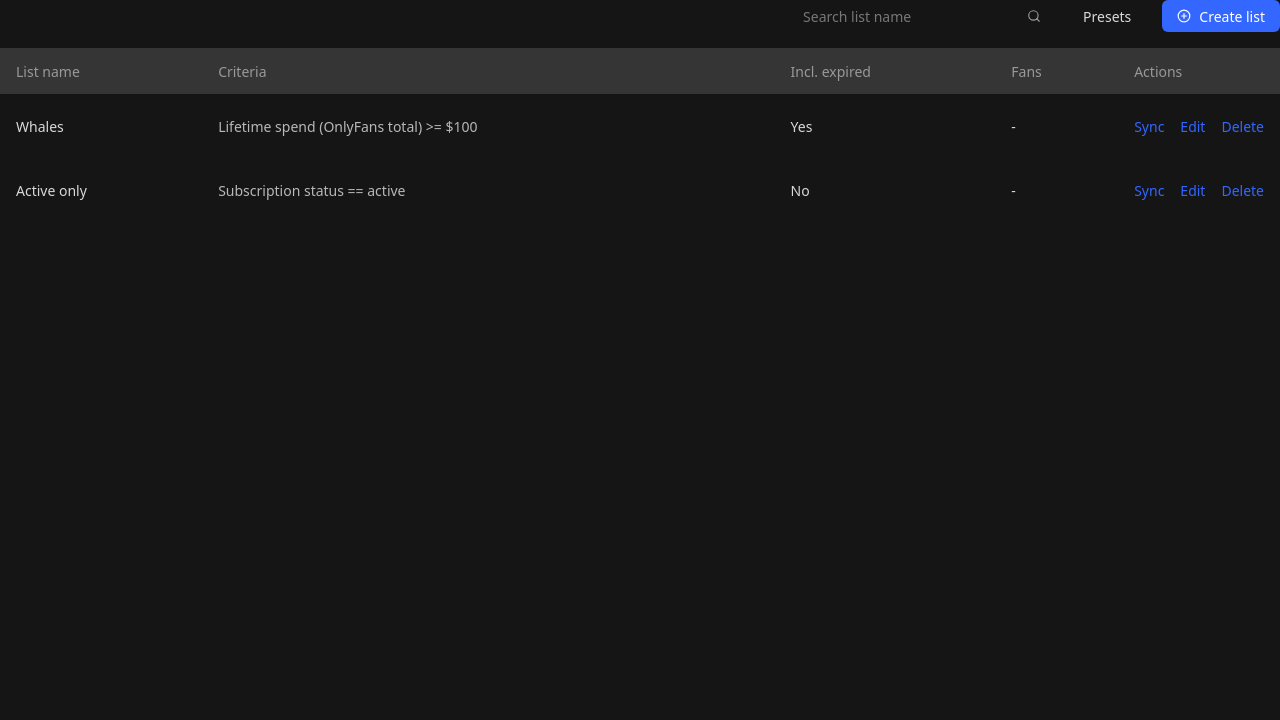
Test: SmartListsTab › Create list opens the Create smart list dialog and saves the rules
The image size is (1280, 720).
Check: the text "Whales" is shown, box [16,116,64,136]
Click the button "Create list" at (1221, 16), box [1162,0,1279,32]
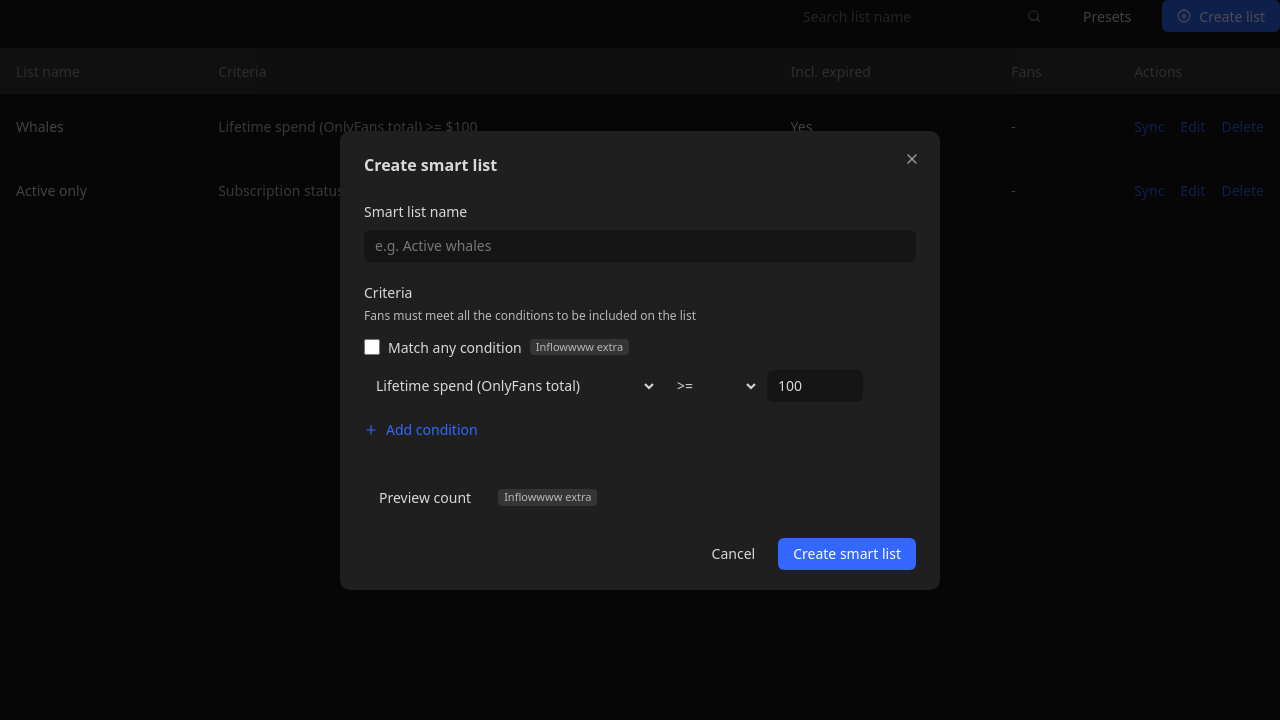
Check: the text "Fans must meet all the conditions to be included on the list" is shown, box [364,306,696,324]
Click the button "Create smart list" at (847, 554), box [778,538,916,570]
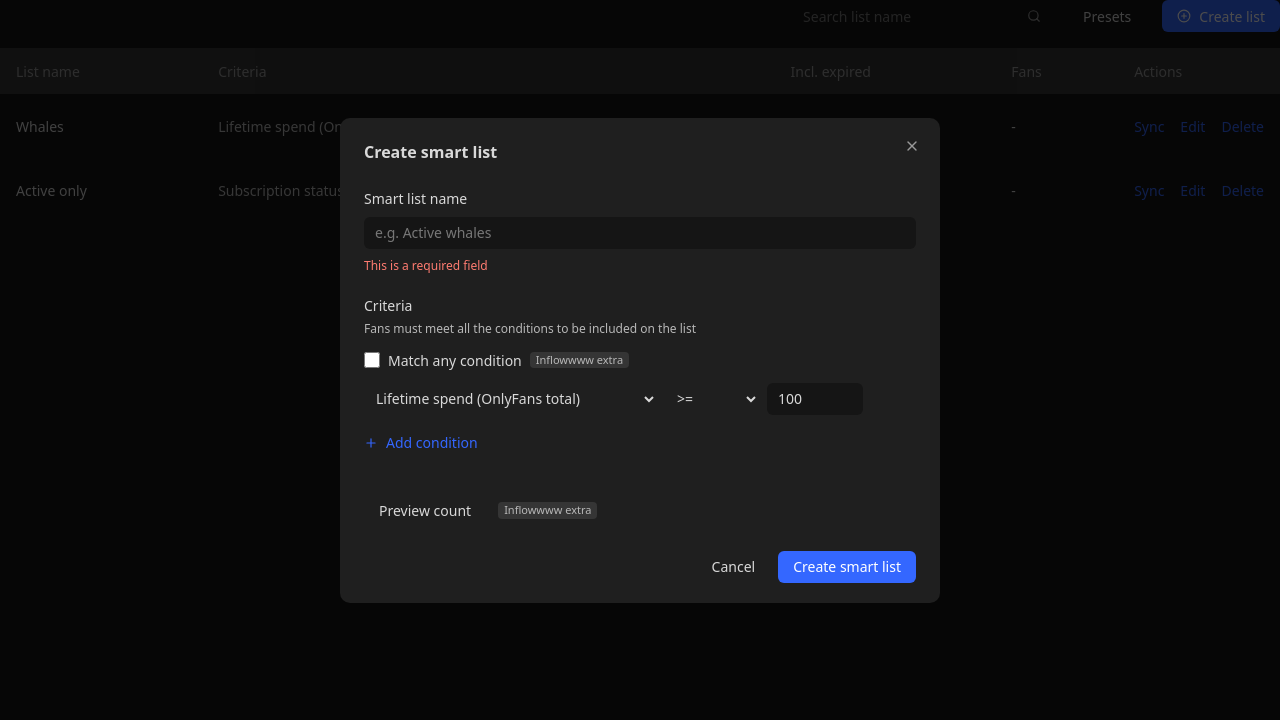
Check: the message reads "This is a required field", box [364,256,488,274]
Type " Big spenders " into the field labelled "Smart list name" at (640, 232), box [364,216,916,248]
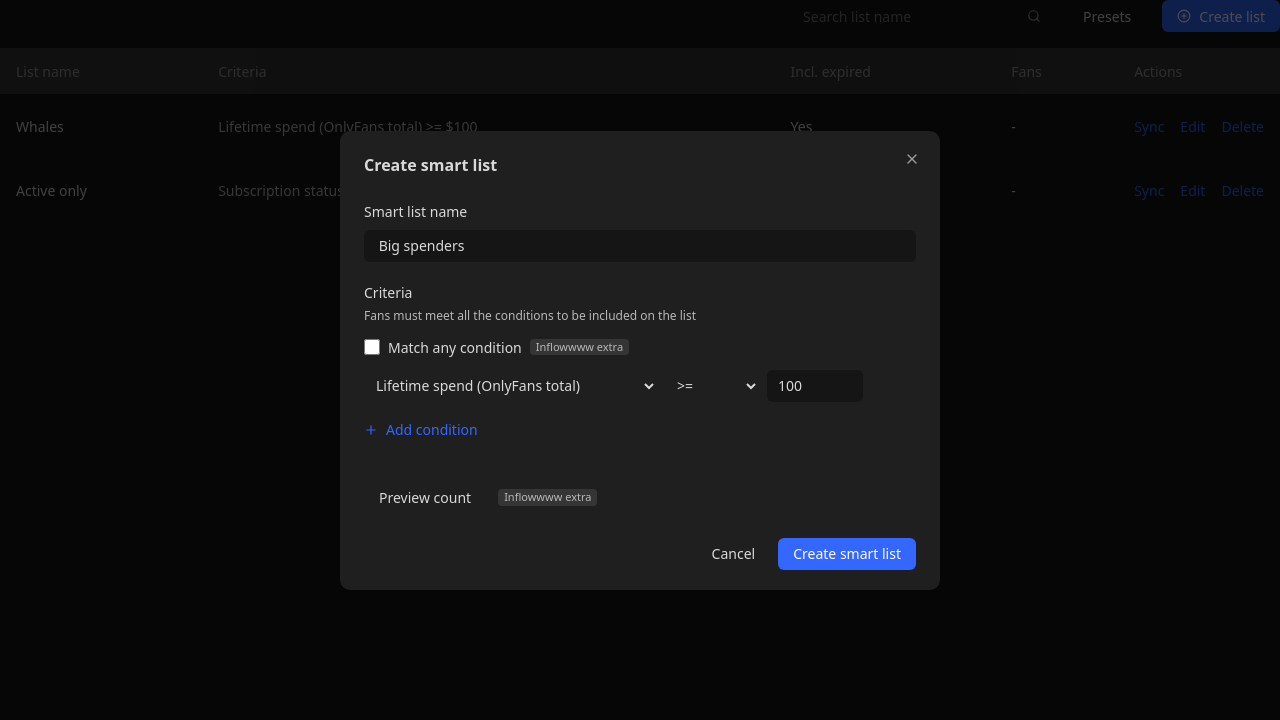
Click the button "Add condition" at (421, 430), box [364,414,478,446]
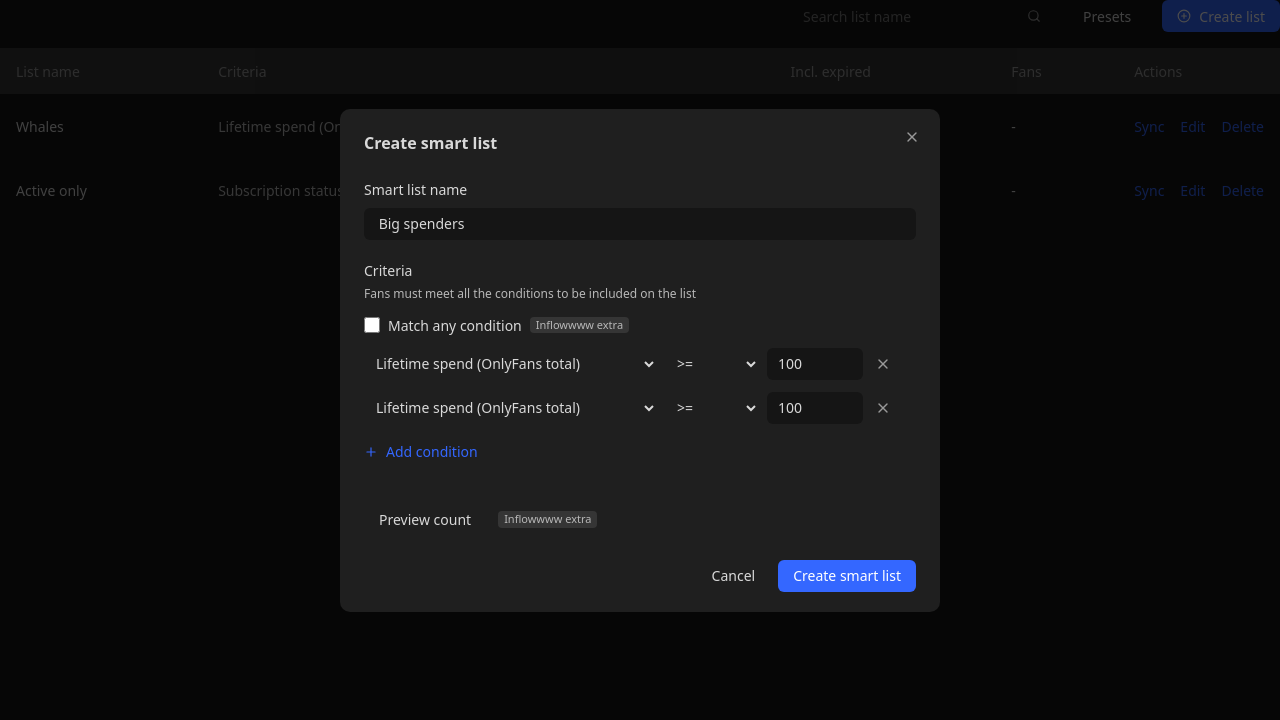
Check: the number of dropdowns named "Condition" is 2, box [364,348,657,380]; [364,392,657,424]
Click the button "Create smart list" at (847, 576), box [778,560,916,592]
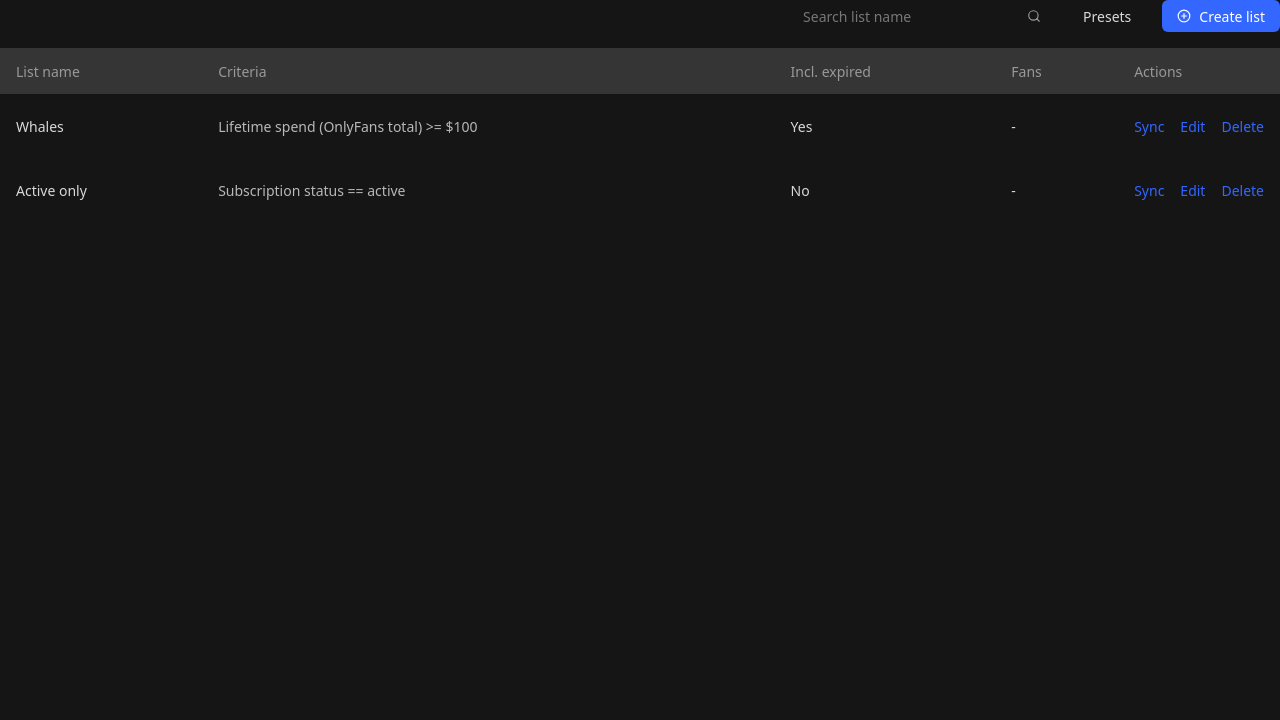
Check: the dialog is gone
